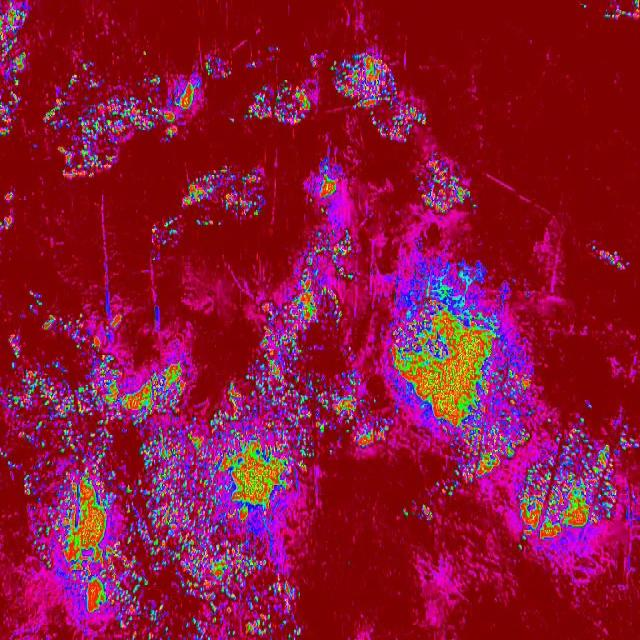fire: (24, 351, 196, 640), (388, 254, 535, 486), (196, 407, 320, 640), (512, 420, 640, 550), (328, 46, 432, 146), (253, 260, 321, 408), (52, 65, 121, 179), (158, 166, 274, 232), (122, 70, 205, 140), (322, 378, 386, 454), (251, 76, 311, 136), (321, 214, 352, 322), (420, 154, 476, 213), (306, 168, 346, 210)
